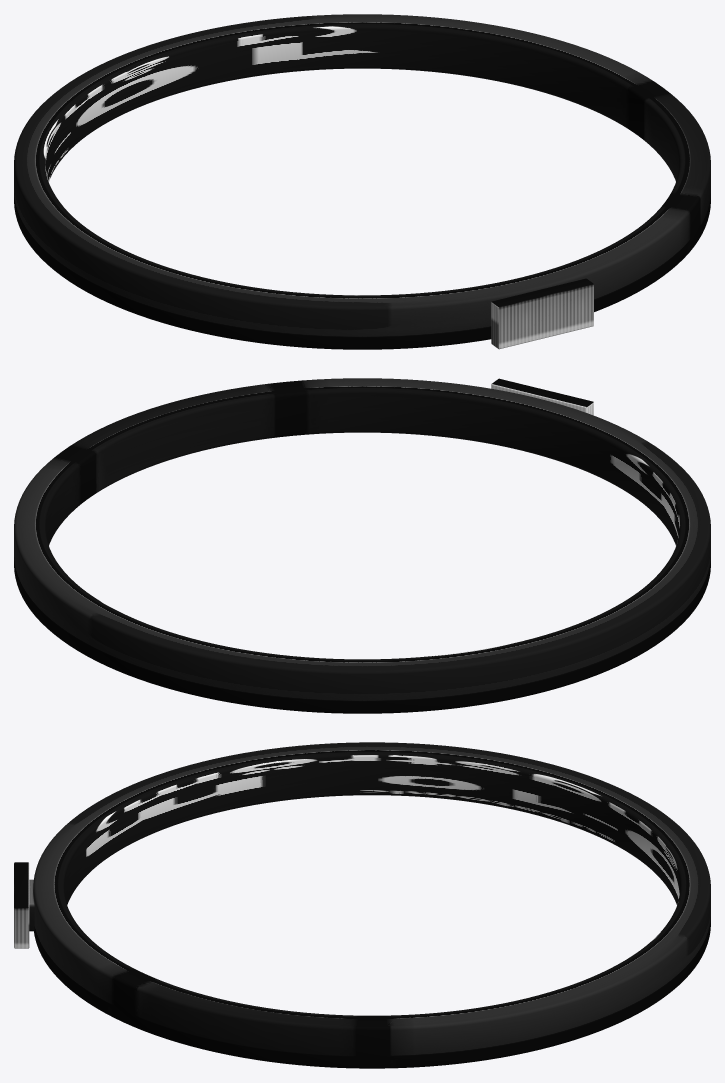
The model's file is 02-scalering-1a.dae.
3 views of the same model, one above another, from view 1: azimuth 30°, elevation 25°; view 2: azimuth 150°, elevation 25°; view 3: azimuth 270°, elevation 25° (orthographic). The views are drawn at different scales.
Parts seen in each view (by area): view 1: scalering.1, screen.1; view 2: scalering.1, screen.1; view 3: scalering.1, screen.1.
Part boxes in pixels (box(x1,y1,x2,y2)): scalering.1: box(14, 14, 710, 349); screen.1: box(491, 278, 593, 349); scalering.1: box(14, 378, 710, 713); screen.1: box(491, 378, 593, 415); scalering.1: box(33, 742, 710, 1068); screen.1: box(14, 862, 29, 948).
Size of the model in its own units: 11 by 0.75 by 11.31.
Materials: 3 (3 with a texture image).
